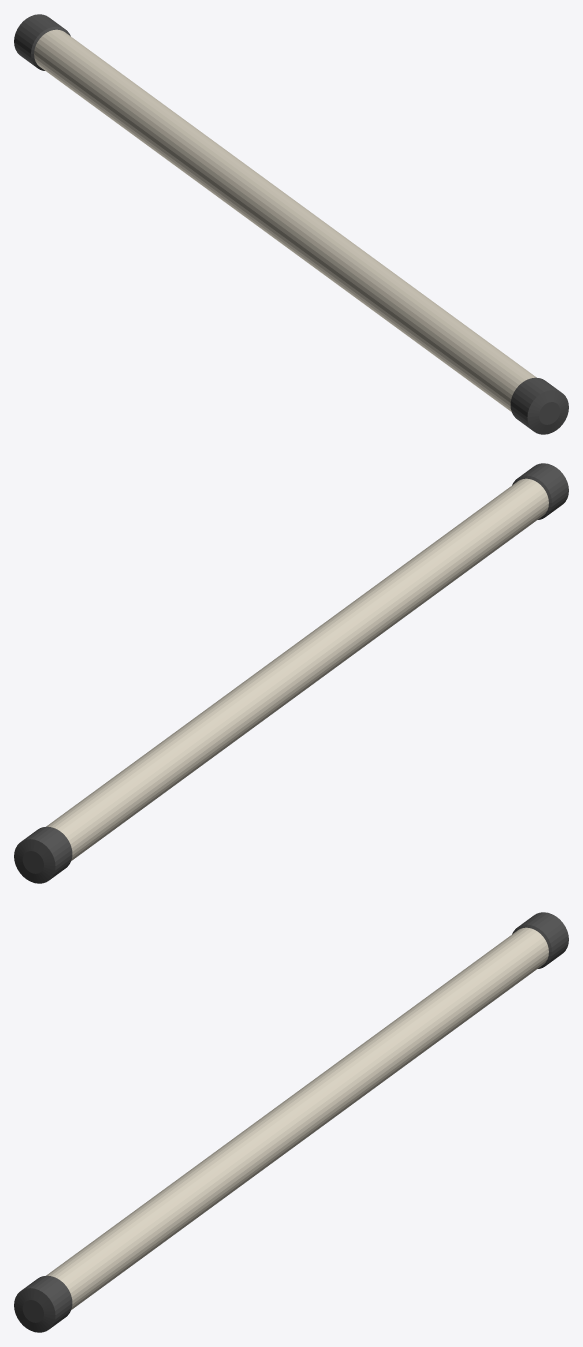
The model's file is Neon.fbx.
The picture shows the model from 3 angles, top to bottom: view 1: azimuth 30°, elevation 25°; view 2: azimuth 150°, elevation 25°; view 3: azimuth 330°, elevation 25°; orthographic projection.
Parts seen in each view (by area): view 1: Cylinder; view 2: Cylinder; view 3: Cylinder.
Part boxes in pixels (left/top/right/bottom): Cylinder: left=14, top=14, right=568, bottom=434; Cylinder: left=14, top=463, right=568, bottom=883; Cylinder: left=14, top=912, right=568, bottom=1332.
Size of the model in its own units: 4820 by 224 by 224.
